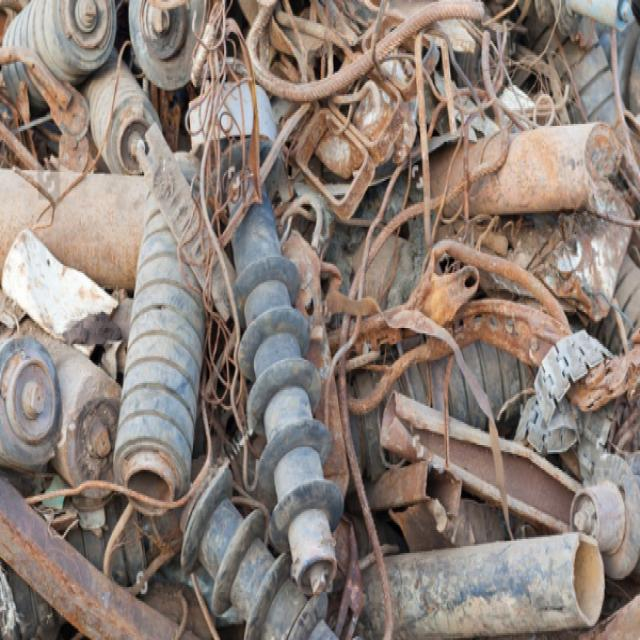Shock-Absorbers: (233, 156, 344, 595), (173, 466, 343, 640)
